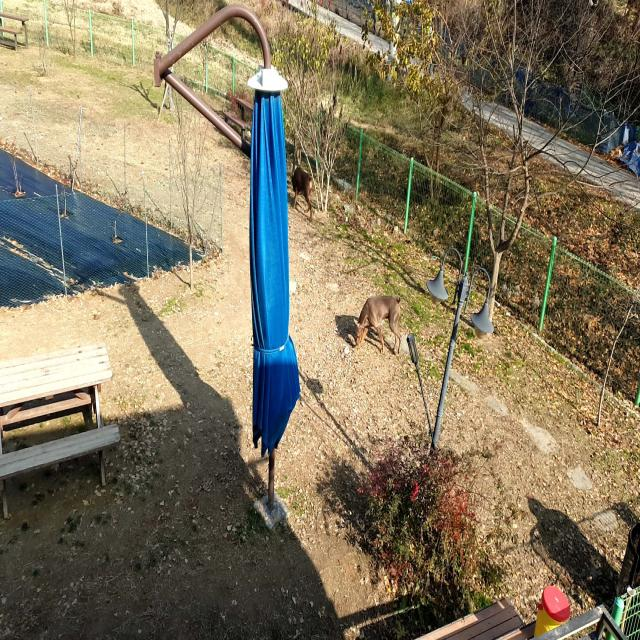Dog: (347, 296, 402, 354), (291, 165, 313, 218)
